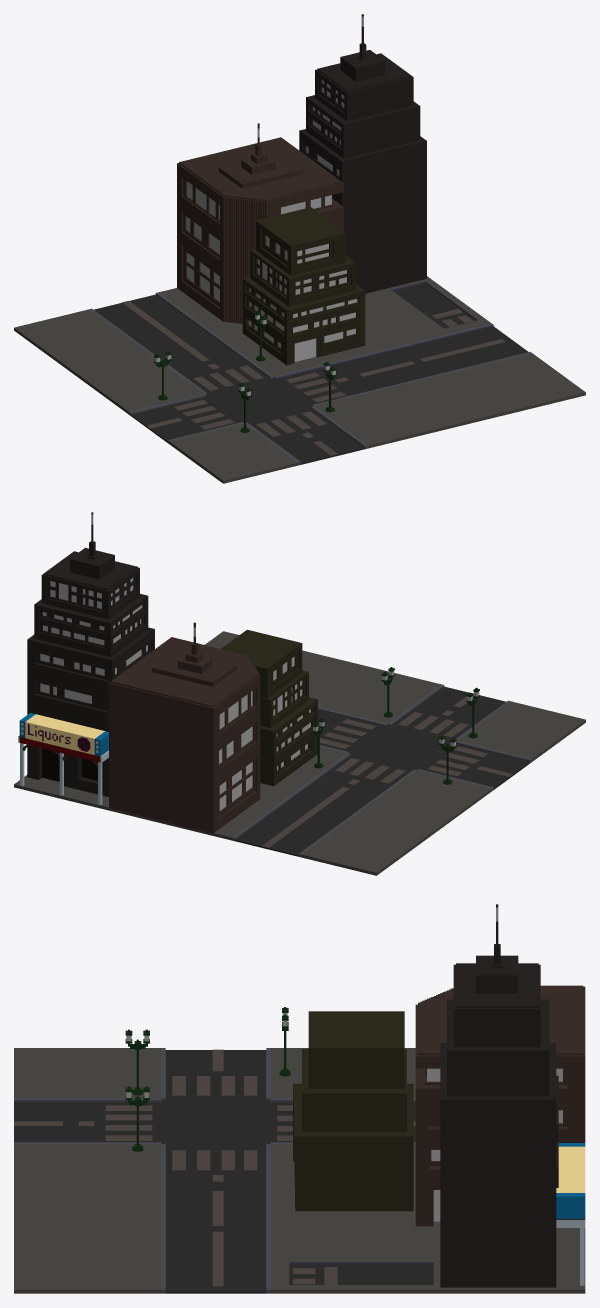
The model's file is Street4-5.fbx.
3 renders of one model, top to bottom at view 1: azimuth 30°, elevation 25°; view 2: azimuth 150°, elevation 25°; view 3: azimuth 270°, elevation 25°, orthographic. The views are drawn at different scales.
Visible parts, largest first — view 1: Street45; view 2: Street45; view 3: Street45.
Part boxes in pixels (box(x1,y1,x2,y2)): Street45: box(14, 14, 585, 483); Street45: box(14, 512, 585, 875); Street45: box(14, 904, 585, 1293).
Size of the model in its own units: 25.6 by 17.7 by 25.63.
Materials: 5 (1 with a texture image).
